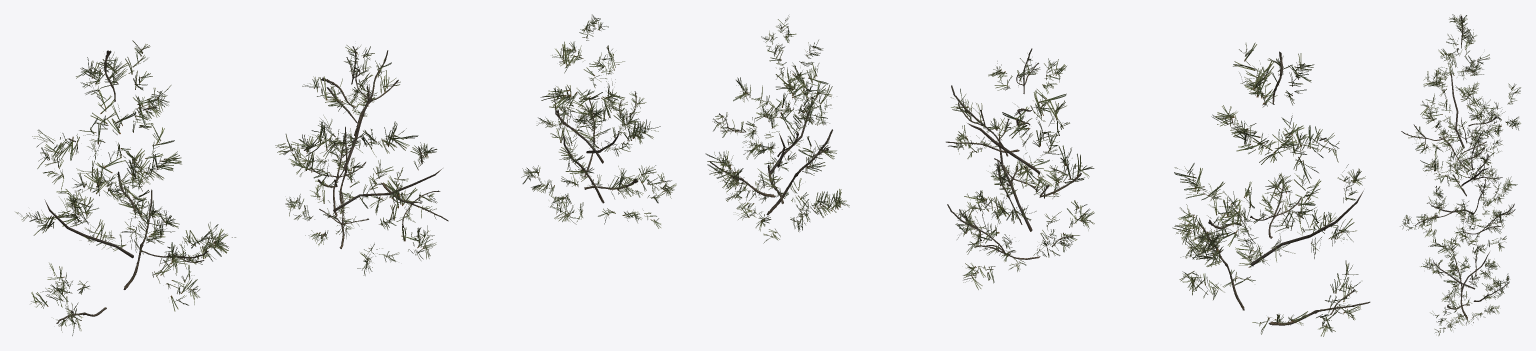
Rendered from pine_sapling_small.glb.
The picture shows the model from 3 angles, left to right: view 1: azimuth 30°, elevation 25°; view 2: azimuth 150°, elevation 25°; view 3: azimuth 270°, elevation 25°; orthographic projection. The views are drawn at different scales.
Visible parts, largest first — view 1: pine_sapling_small_lod0; view 2: pine_sapling_small_lod0; view 3: pine_sapling_small_lod0.
Boxes of the visible parts, x1,y1,x2,y2 form: pine_sapling_small_lod0: (15,14,676,335); pine_sapling_small_lod0: (705,15,1370,336); pine_sapling_small_lod0: (1400,14,1520,335).
Size of what is drawn, in the model's own units: 2.64 by 1.16 by 0.7564.
2 materials, 2 textured.
